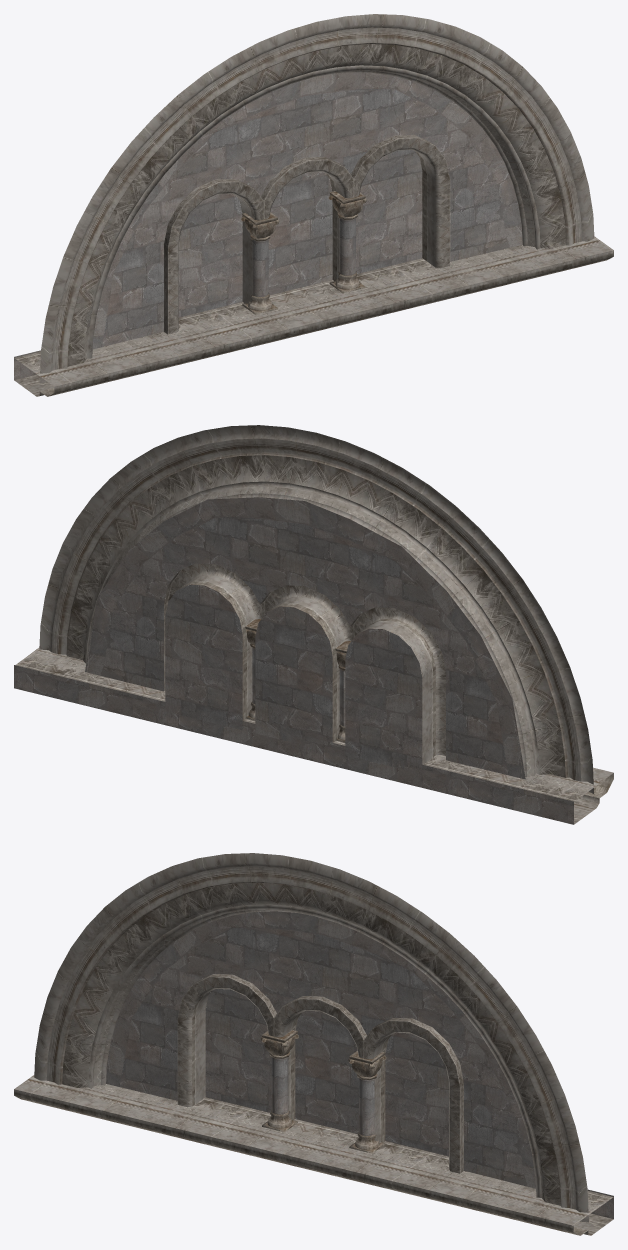
3 renders of one model, top to bottom at view 1: azimuth 30°, elevation 25°; view 2: azimuth 150°, elevation 25°; view 3: azimuth 330°, elevation 25°, orthographic.
Visible parts, largest first — view 1: SM_Dungeon_BlindArcadeWallTop_v1_LOD0; view 2: SM_Dungeon_BlindArcadeWallTop_v1_LOD0; view 3: SM_Dungeon_BlindArcadeWallTop_v1_LOD0.
Boxes of the visible parts, x1,y1,x2,y2 form: SM_Dungeon_BlindArcadeWallTop_v1_LOD0: (14,14,613,396); SM_Dungeon_BlindArcadeWallTop_v1_LOD0: (14,425,613,824); SM_Dungeon_BlindArcadeWallTop_v1_LOD0: (14,853,613,1235).
Size of the model in its own units: 7.4 by 3.88 by 0.9193.
3 materials, 3 textured.
